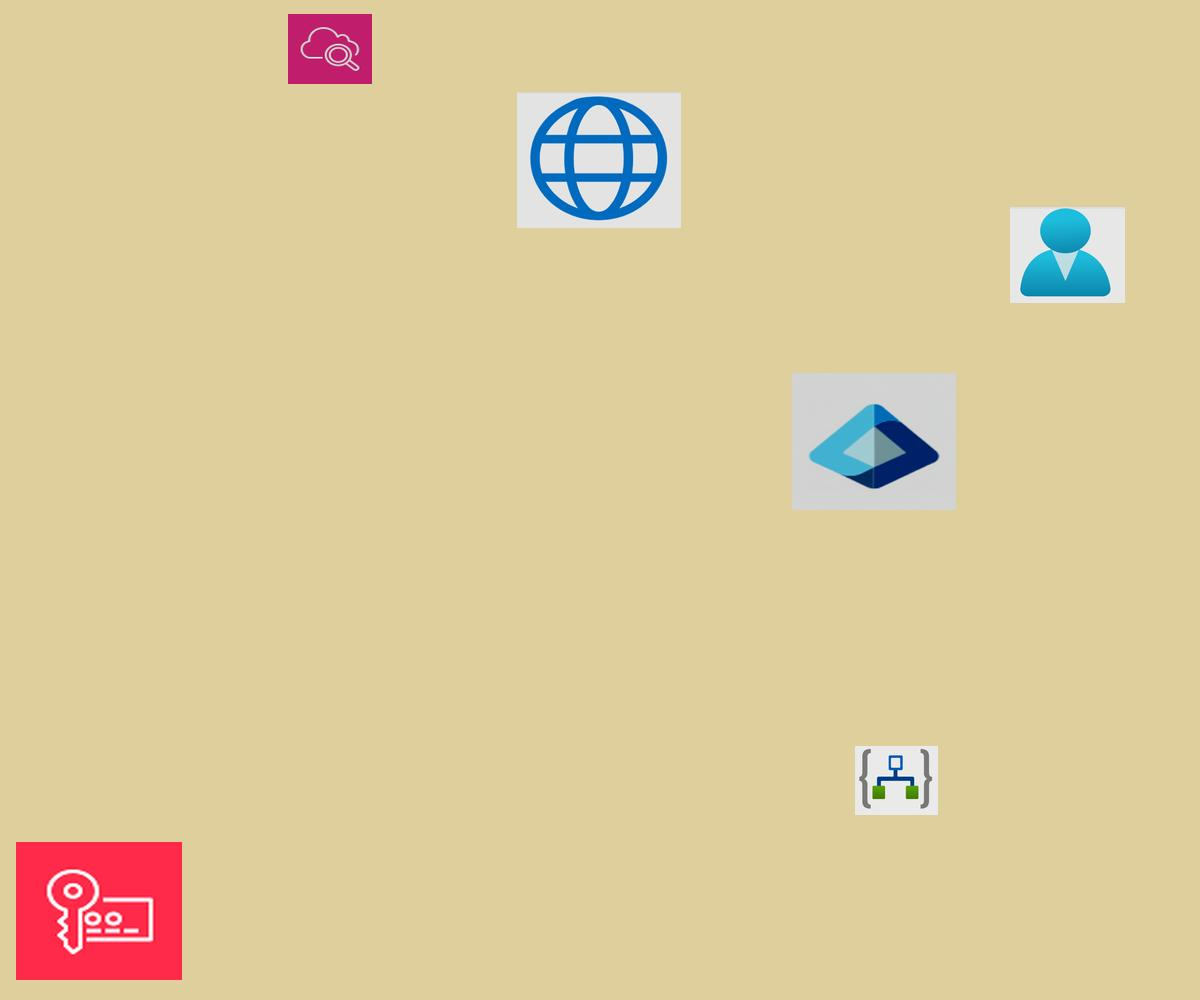AWS-CloudWatch: (288, 14, 372, 84)
AWS-Key-Management-Service: (16, 842, 182, 980)
Azure_http: (517, 92, 681, 228)
Azure_integration-204-Logic-Apps: (855, 746, 938, 815)
Azure_microsoft_entra: (792, 373, 956, 510)
Azure_users: (1010, 207, 1125, 303)
